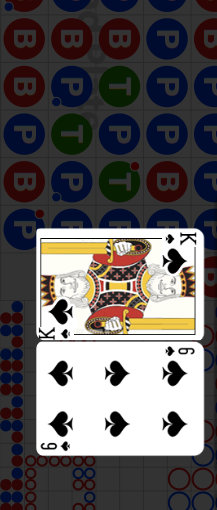6S: (40, 439, 73, 452)
KS: (162, 230, 198, 246)
